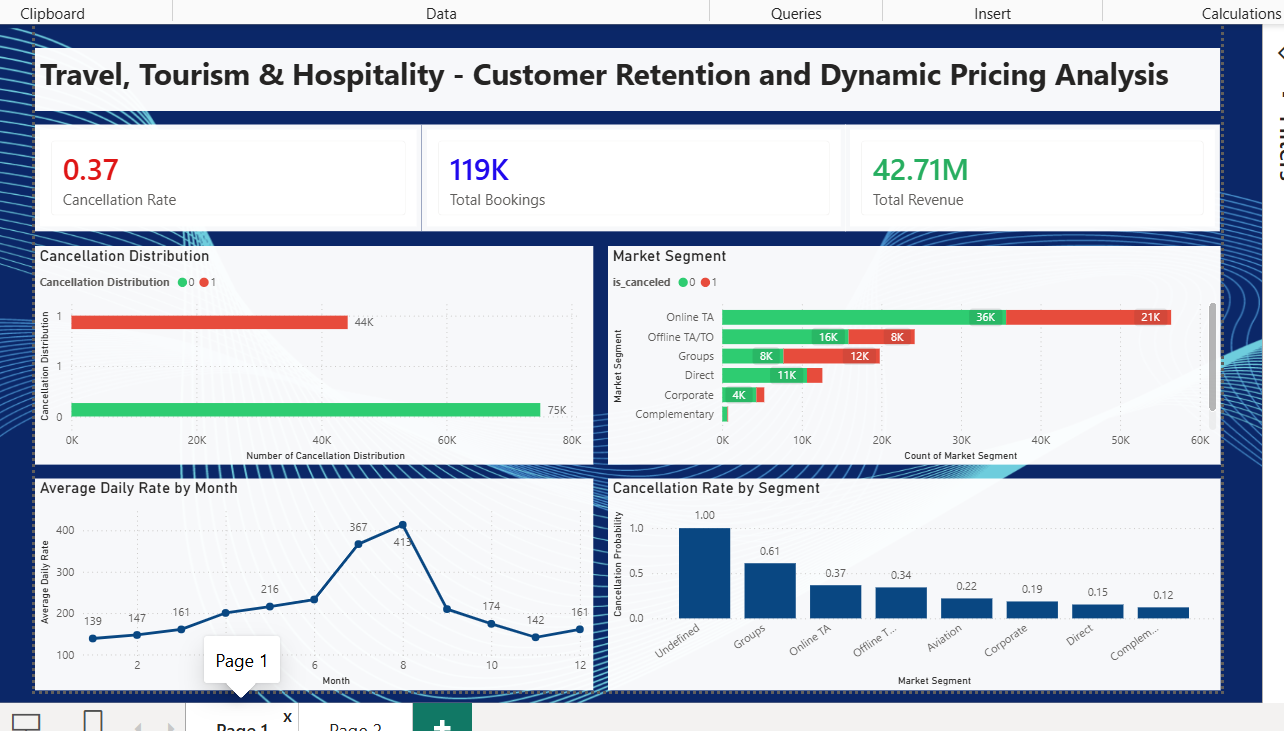

This screenshot's page, from the dashboard's own definition file:
{"tool":"powerbi","page":{"name":"Page 1","canvas":[1280,720],"ordinal":0},"visuals":[{"type":"lineChart","fields":{"Category":["bi_seasonal_pricing.arrival_date_month_numeric"],"Y":["Sum(bi_seasonal_pricing.adr)"]},"box":[0,491.3,602.8,228.7],"z":0},{"type":"clusteredColumnChart","title":"Cancellation Rate by Segment","fields":{"Category":["bi_segment_churn.market_segment"],"Y":["Sum(bi_segment_churn.cancellation_rate)"]},"box":[618,491.3,661.4,228.7],"z":1000},{"type":"cardVisual","fields":{"Data":["cleaned_hotel_bookings.Cancellation Rate"]},"box":[0,107.7,417.6,115.3],"z":2000},{"type":"cardVisual","fields":{"Data":["cleaned_hotel_bookings.Total Bookings"]},"box":[417.6,107.7,457.3,115.3],"z":3000},{"type":"cardVisual","fields":{"Data":["cleaned_hotel_bookings.Total Revenue"]},"box":[875,107.7,404.4,115.3],"z":4000},{"type":"textbox","title":"Travel, Tourism & Hospitality - Customer Retention and Dynamic Pricing Analysis","box":[0,26.5,1279.4,68],"z":5000},{"type":"clusteredBarChart","title":"Cancellation Distribution","fields":{"Category":["cleaned_hotel_bookings.is_canceled"],"Series":["cleaned_hotel_bookings.is_canceled"],"Y":["CountNonNull(cleaned_hotel_bookings.is_canceled)"]},"box":[0,240,602.8,236.2],"z":6000},{"type":"barChart","title":" Market Segment ","fields":{"Category":["cleaned_hotel_bookings.market_segment"],"Series":["cleaned_hotel_bookings.is_canceled"],"Y":["CountNonNull(cleaned_hotel_bookings.market_segment)"]},"box":[618,240,661.4,236.2],"z":7000}]}

Visuals, with their boxes on the page's 1280x720 design canvas (x1, y1, x2, y2). These are canvas units, not pixel positions in the 1284x731 screenshot, which may show the page scaled, cropped or inside an application window:
lineChart - bi_seasonal_pricing.arrival_date_month_numeric x Sum(bi_seasonal_pricing.adr): [x1=0, y1=491, x2=603, y2=720]
"Cancellation Rate by Segment" clusteredColumnChart: [x1=618, y1=491, x2=1279, y2=720]
cardVisual - cleaned_hotel_bookings.Cancellation Rate: [x1=0, y1=108, x2=418, y2=223]
cardVisual - cleaned_hotel_bookings.Total Bookings: [x1=418, y1=108, x2=875, y2=223]
cardVisual - cleaned_hotel_bookings.Total Revenue: [x1=875, y1=108, x2=1279, y2=223]
"Travel, Tourism & Hospitality - Customer Retention and Dynamic Pricing Analysis" textbox: [x1=0, y1=26, x2=1279, y2=94]
"Cancellation Distribution" clusteredBarChart: [x1=0, y1=240, x2=603, y2=476]
" Market Segment " barChart: [x1=618, y1=240, x2=1279, y2=476]
